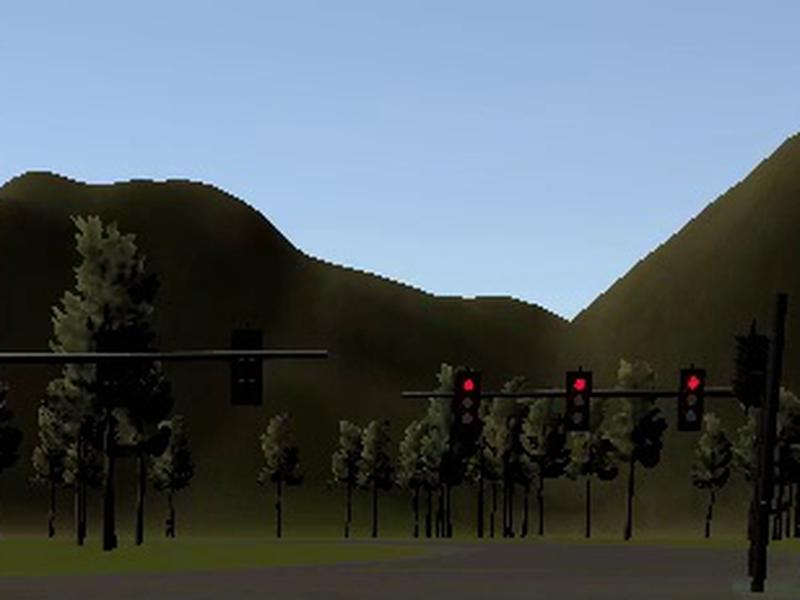Red: (678, 369, 703, 431), (454, 372, 481, 429), (567, 371, 592, 431)
